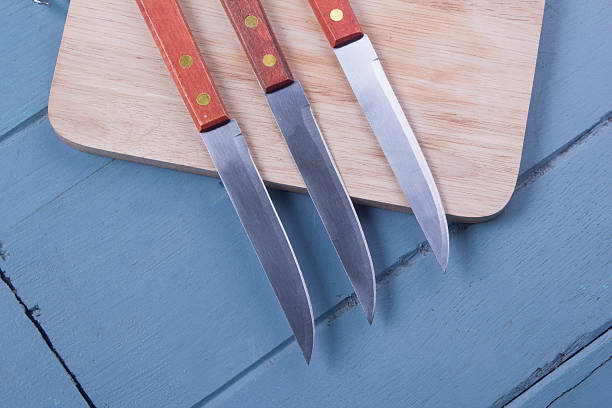knife: (132, 0, 317, 366), (219, 0, 378, 327), (305, 0, 452, 275)
